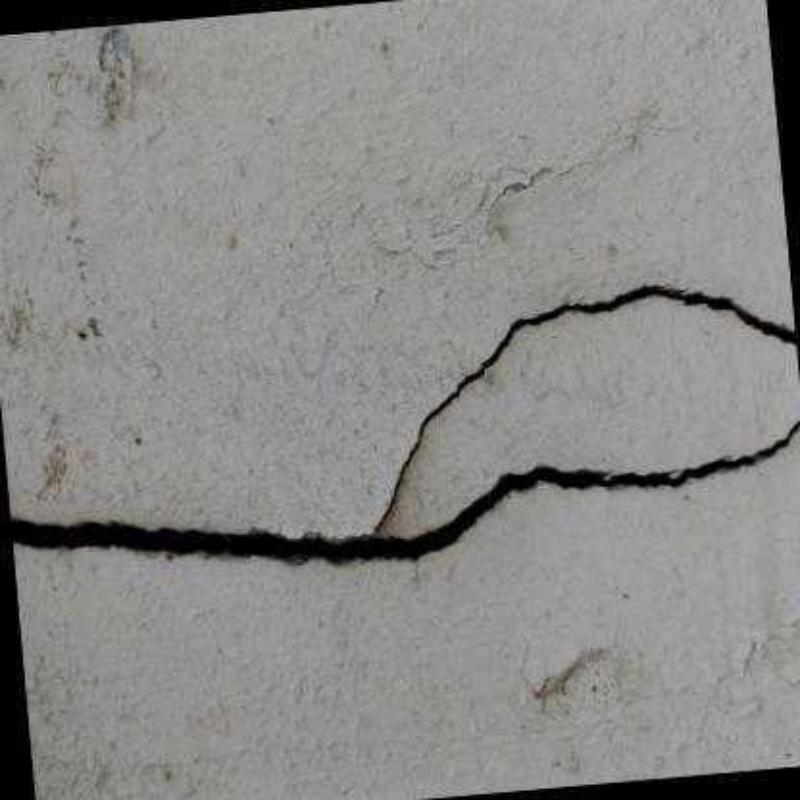pothole: (11, 279, 800, 573)
